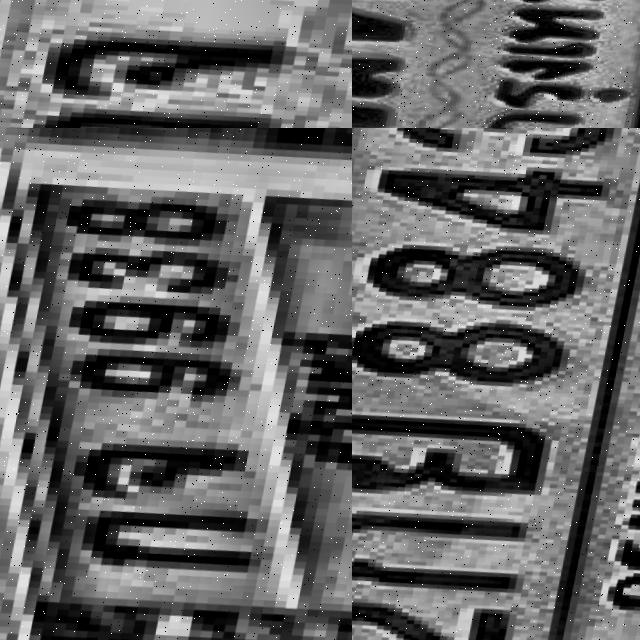license-plate: (0, 128, 352, 640), (352, 128, 640, 640), (0, 0, 352, 128), (352, 0, 640, 128)
